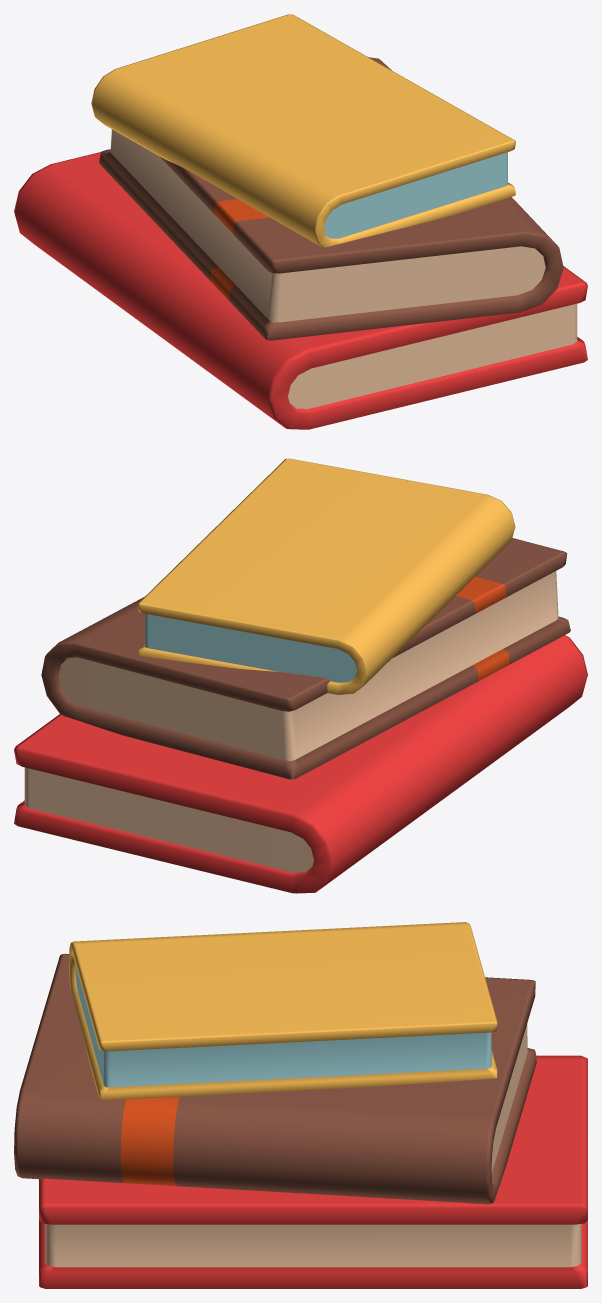
Rendered from Book_003.fbx.
3 views of the same model, one above another, from view 1: azimuth 30°, elevation 25°; view 2: azimuth 150°, elevation 25°; view 3: azimuth 270°, elevation 25° (orthographic). The views are drawn at different scales.
Parts seen in each view (by area): view 1: Book_003; view 2: Book_003; view 3: Book_003.
Boxes of the visible parts, x1=… form: Book_003: x1=14, y1=14, x2=587, y2=429; Book_003: x1=14, y1=458, x2=587, y2=893; Book_003: x1=14, y1=922, x2=587, y2=1288.
Bounding box in the file's own units: 0.2967 × 0.1787 × 0.4114.
